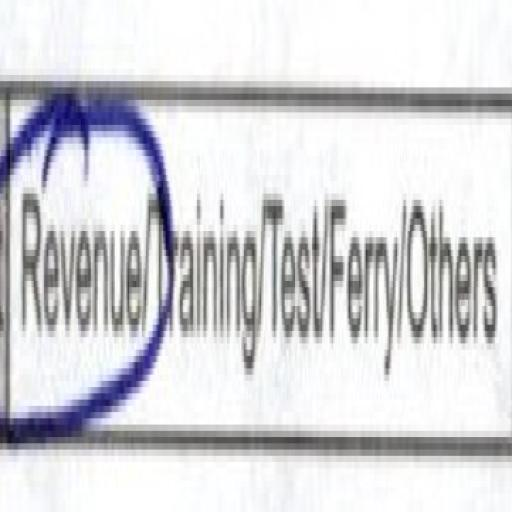check: (0, 0, 149, 501)
